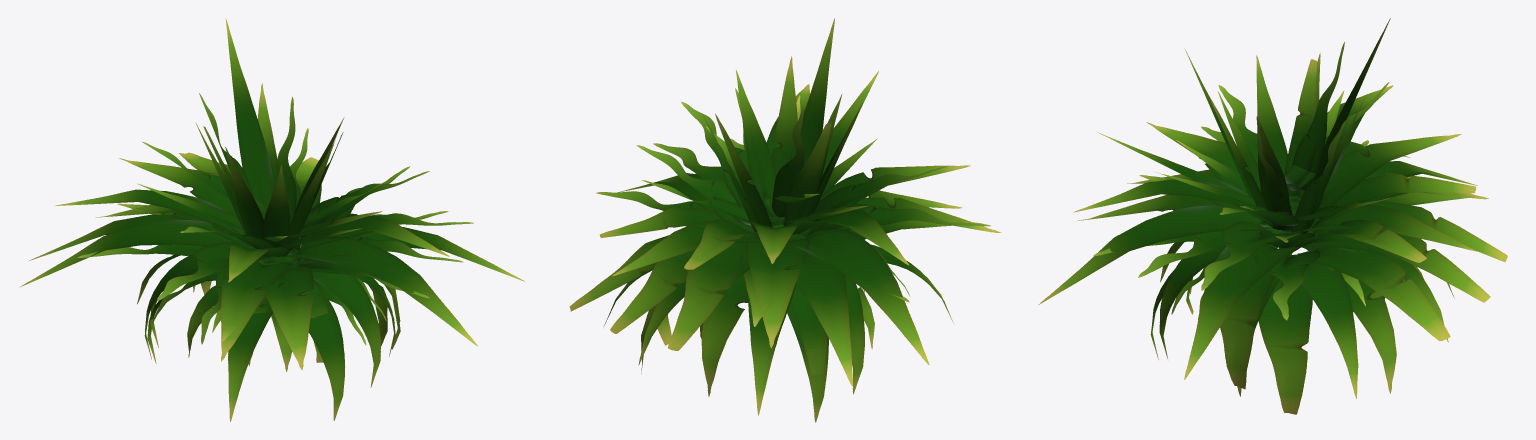
File: Foliage_Yucca_v03.fbx
3 renders of one model, left to right at view 1: azimuth 30°, elevation 25°; view 2: azimuth 150°, elevation 25°; view 3: azimuth 270°, elevation 25°, orthographic. The views are drawn at different scales.
Visible parts, largest first — view 1: low_Yucca_03; view 2: low_Yucca_03; view 3: low_Yucca_03.
Boxes of the visible parts, x1,y1,x2,y2 form: low_Yucca_03: (19, 18, 524, 421); low_Yucca_03: (569, 18, 1001, 422); low_Yucca_03: (1038, 18, 1507, 414).
Bounding box in the file's own units: 2.72 × 2.16 × 2.66.
